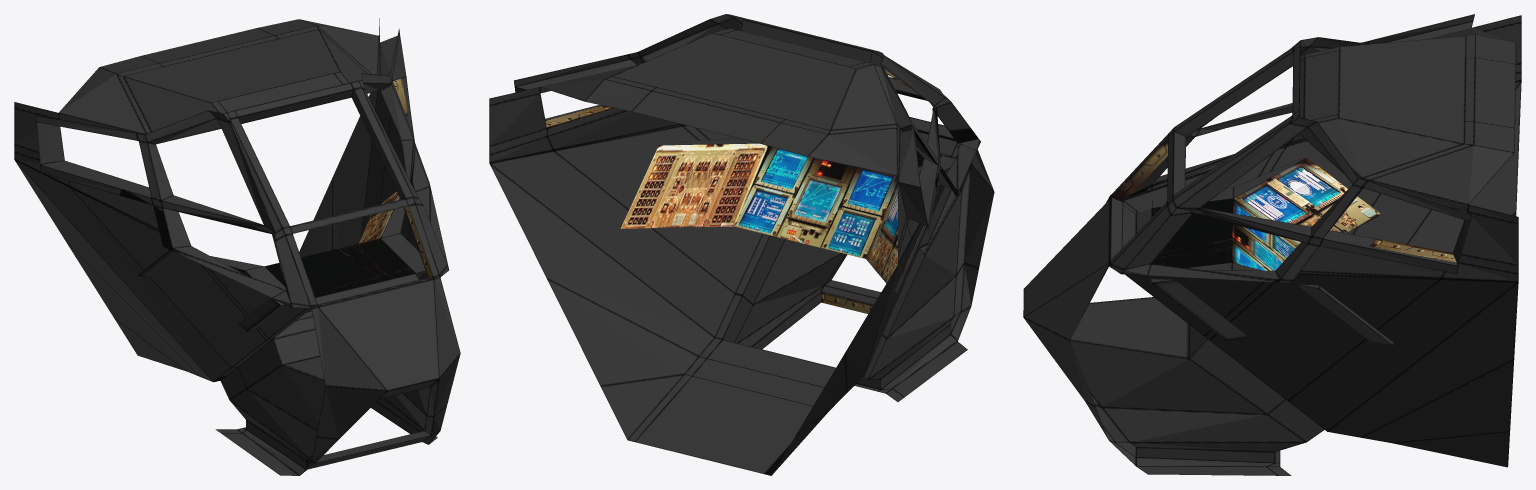
The model's file is cockpitMk3j.obj.
3 renders of one model, left to right at view 1: azimuth 30°, elevation 25°; view 2: azimuth 150°, elevation 25°; view 3: azimuth 270°, elevation 25°, orthographic. The views are drawn at different scales.
Visible parts, largest first — view 1: Cube; view 2: Cube; view 3: Cube.
Boxes of the visible parts, x1,y1,x2,y2 form: Cube: (14, 18, 460, 475); Cube: (489, 14, 994, 475); Cube: (1023, 14, 1521, 475).
Bounding box in the file's own units: 4.33 × 3.53 × 4.52.
